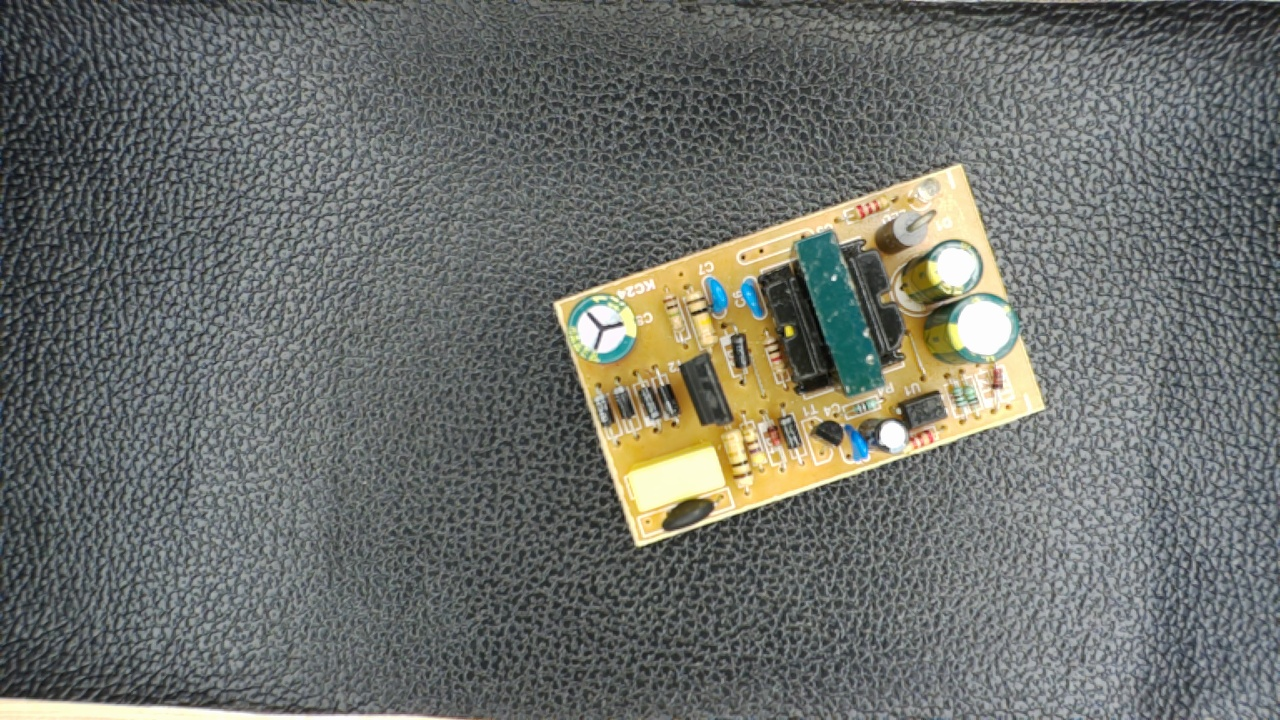fuse: (650, 494, 725, 534)
hv_capacitor: (563, 294, 641, 368)
optocoupler: (896, 387, 953, 431)
